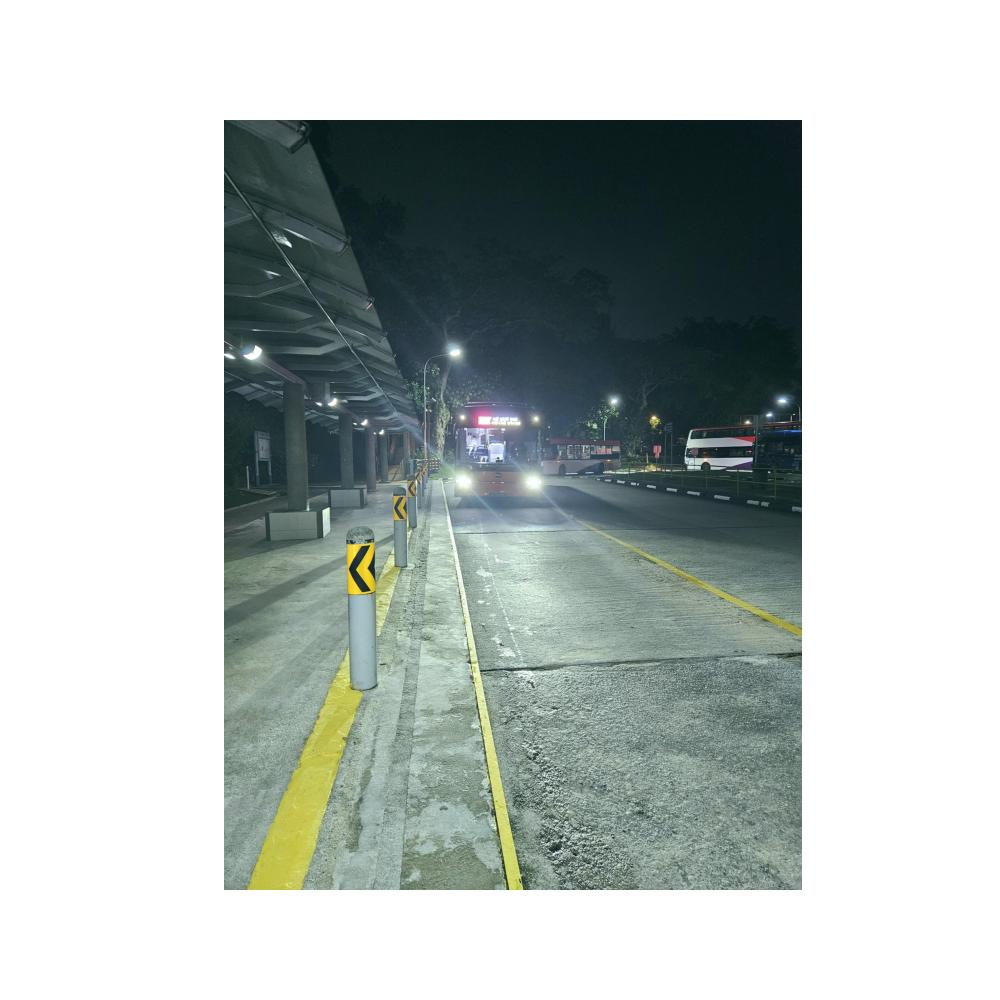bus: (445, 403, 547, 503), (679, 425, 767, 480), (544, 435, 624, 478)
